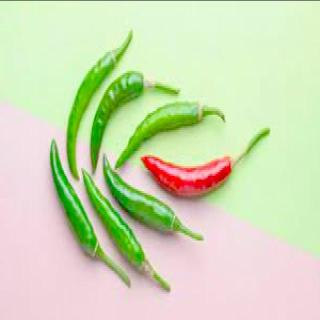Cabai Hijau: (66, 49, 122, 176), (85, 168, 153, 271), (118, 101, 223, 166), (106, 153, 180, 236), (89, 64, 145, 172), (51, 139, 99, 261)
Cabai Merah: (139, 153, 246, 201)
